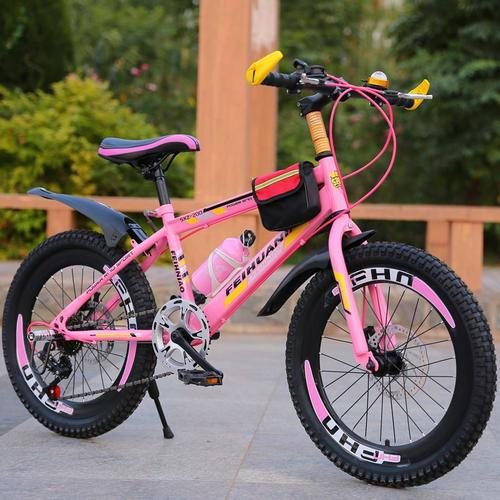单车: (2, 34, 499, 491)
